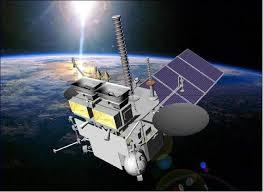antenna: (109, 12, 139, 100), (151, 101, 211, 138), (144, 55, 157, 90)
body: (65, 76, 165, 176)
solar: (136, 46, 227, 107)
